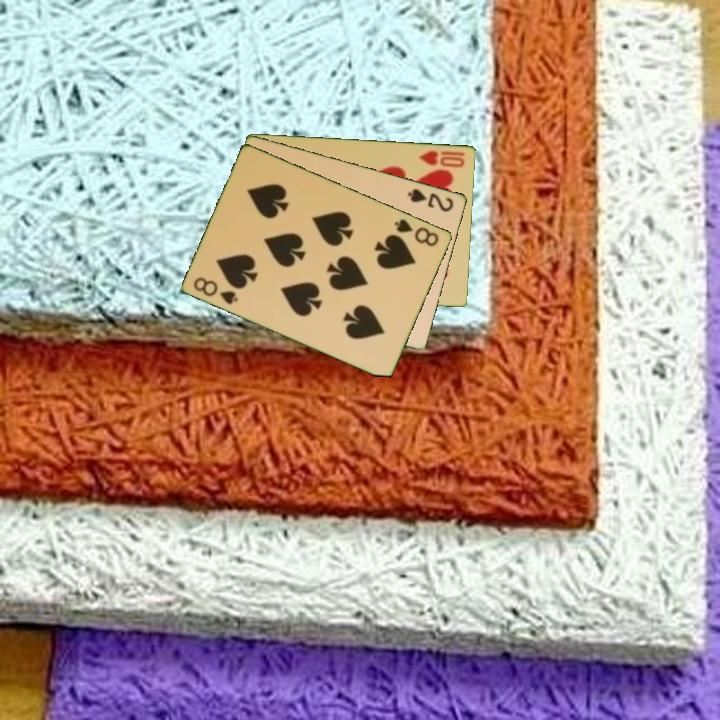10h: (416, 147, 468, 170)
2s: (404, 185, 457, 215)
8s: (190, 273, 242, 307), (391, 215, 442, 249)
